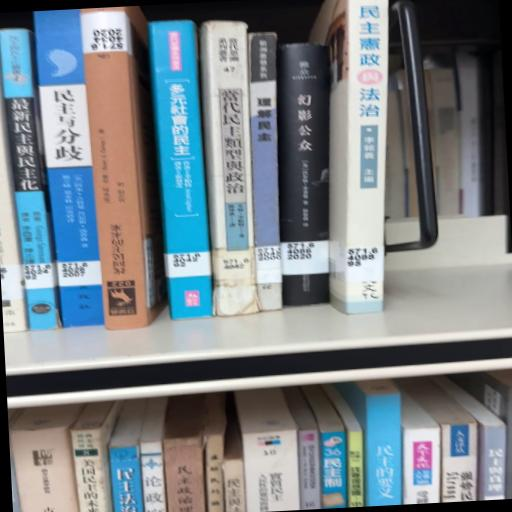reverse: (81, 7, 167, 330)
